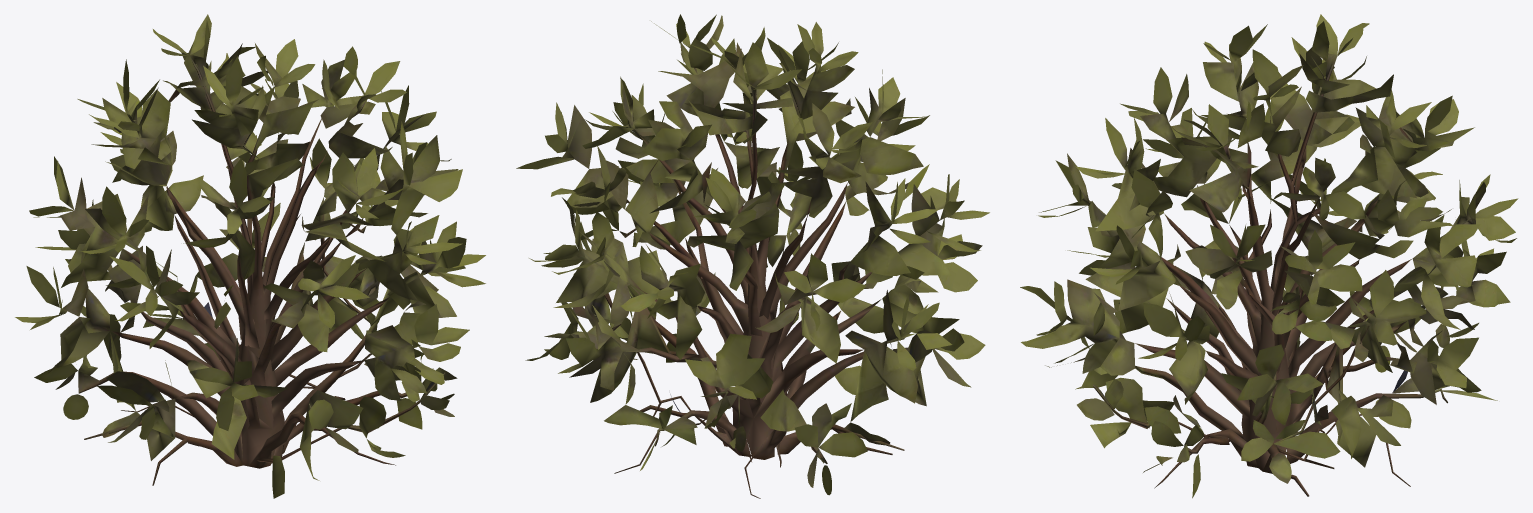
The picture shows the model from 3 angles, left to right: view 1: azimuth 30°, elevation 25°; view 2: azimuth 150°, elevation 25°; view 3: azimuth 270°, elevation 25°; orthographic projection.
Size of the model in its own units: 0.9692 by 0.9448 by 0.9995.
Materials: 1 (1 with a texture image).
